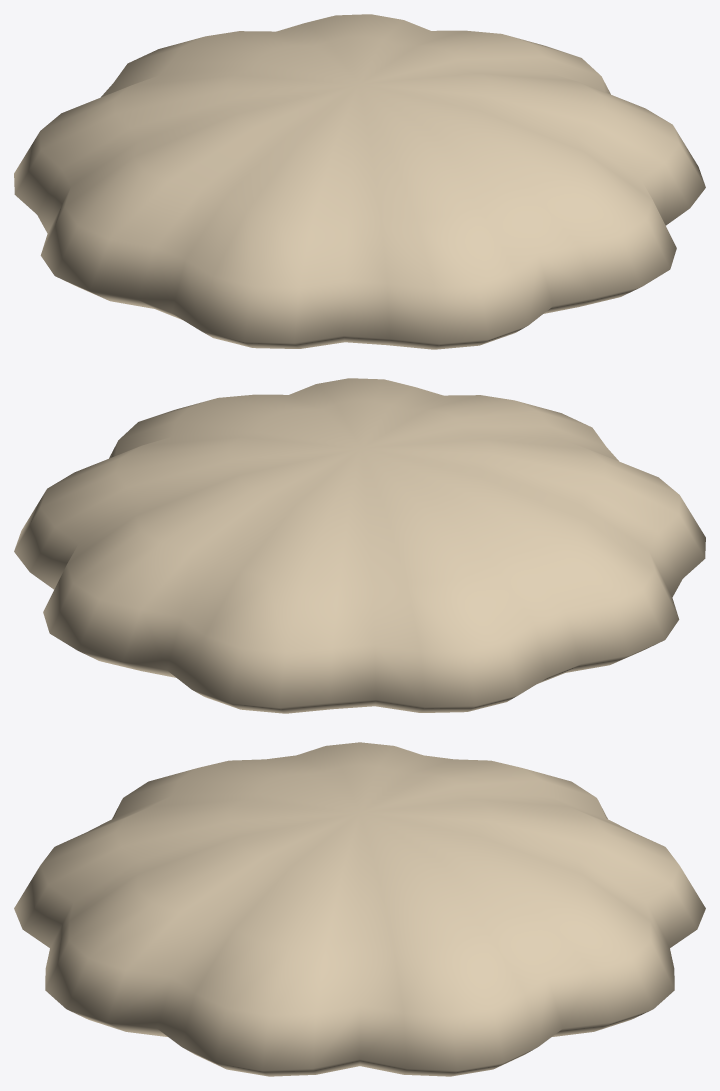
File: cockle-1.glb
3 renders of one model, top to bottom at view 1: azimuth 30°, elevation 25°; view 2: azimuth 150°, elevation 25°; view 3: azimuth 270°, elevation 25°, orthographic.
Visible parts, largest first — view 1: cockle-1; view 2: cockle-1; view 3: cockle-1.
Part boxes in pixels (left/top/right/bottom): cockle-1: left=14, top=14, right=705, bottom=349; cockle-1: left=14, top=378, right=705, bottom=713; cockle-1: left=14, top=742, right=705, bottom=1076.
Bounding box in the file's own units: 0.39 × 0.084 × 0.3944.
